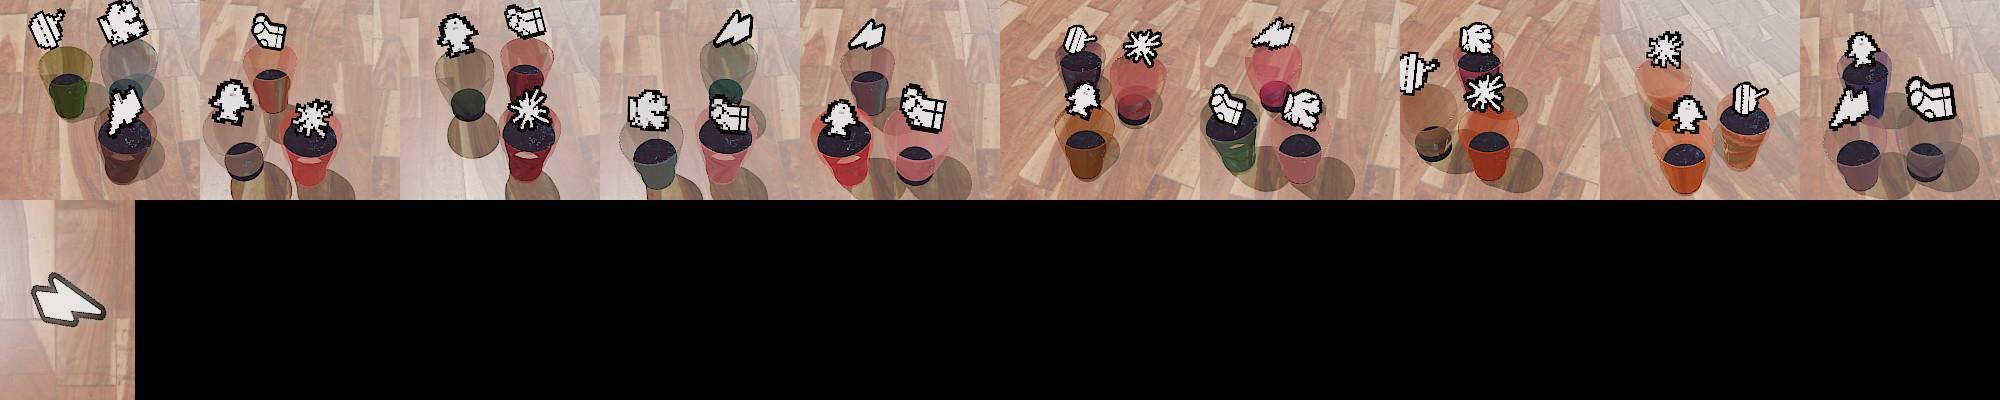icon: (31, 271, 109, 326), (96, 0, 149, 47), (900, 81, 948, 132), (1905, 74, 1957, 121), (208, 77, 256, 126), (104, 83, 146, 135), (1462, 72, 1509, 116), (1278, 87, 1324, 131), (435, 12, 479, 58), (1398, 50, 1442, 96), (627, 87, 672, 131), (508, 86, 553, 130), (1828, 86, 1872, 129), (1207, 84, 1248, 130), (291, 96, 335, 138), (27, 9, 67, 50), (1668, 94, 1709, 134), (712, 9, 754, 48), (708, 96, 751, 134), (504, 2, 548, 39), (1122, 27, 1163, 66), (1250, 16, 1295, 51), (1730, 80, 1771, 117), (250, 12, 288, 51), (822, 97, 859, 137), (1843, 32, 1882, 69), (1647, 29, 1683, 69), (1458, 21, 1495, 58), (847, 17, 886, 51), (1066, 80, 1102, 115), (1062, 23, 1098, 56)
